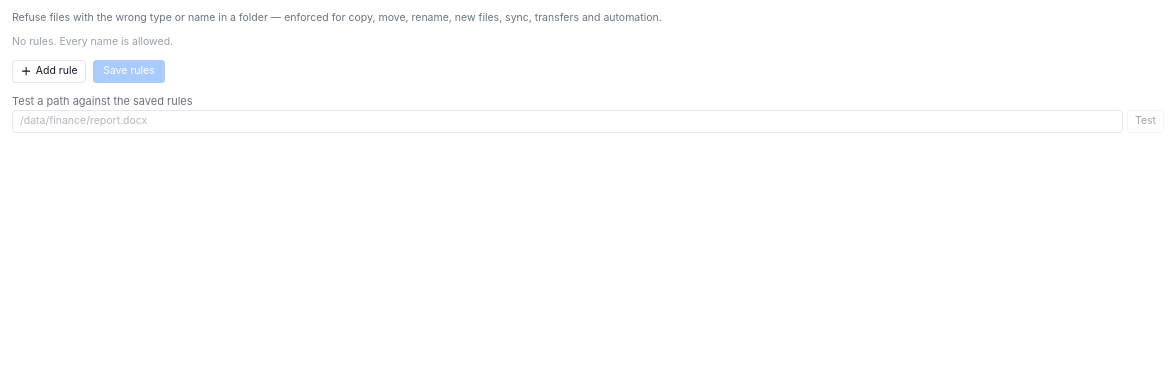
Test case: FilenamePoliciesSection › adds a rule and saves it in the engine's shape
Expected: the text "No rules. Every name is allowed." is shown, [12,35,173,48]
Click the button "Add rule" at (49, 71), box [12,60,86,82]
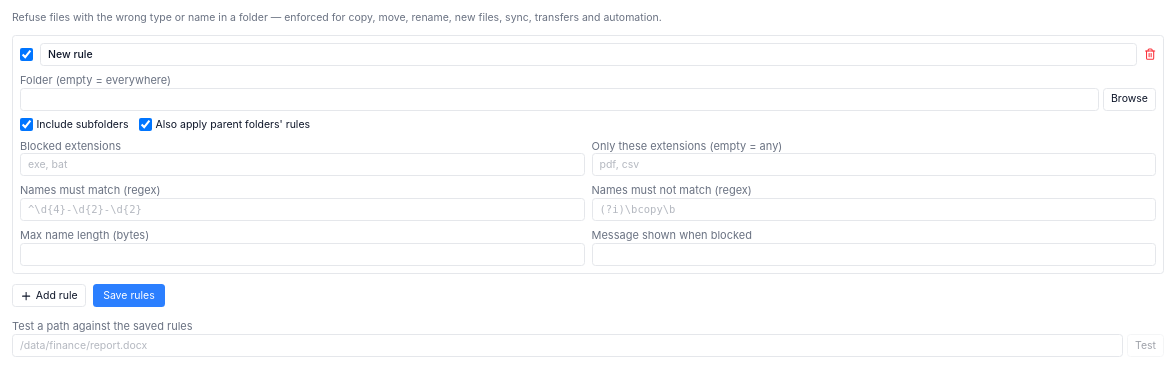
Replace the text in the field named "Rule 1 name" with "No programs" at (588, 54), box [40,43,1137,66]
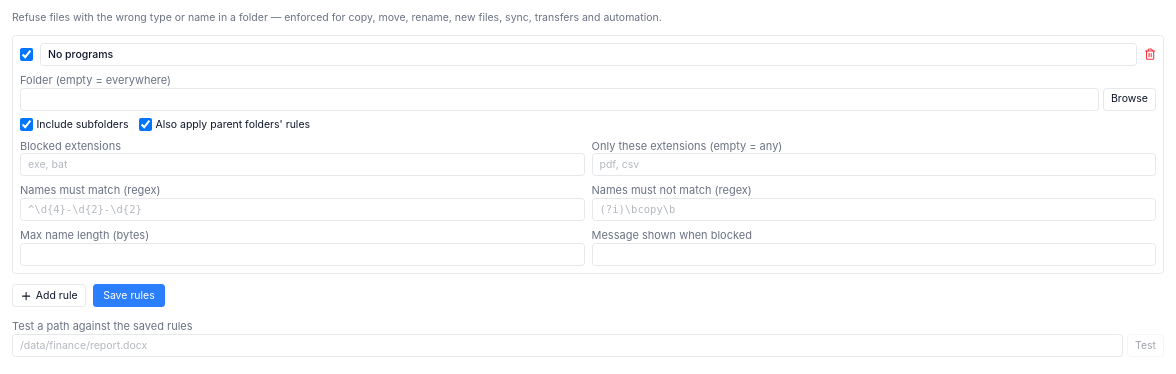
Type ".EXE, bat" into the field labelled "Blocked extensions" at (302, 165), box [20,153,584,176]
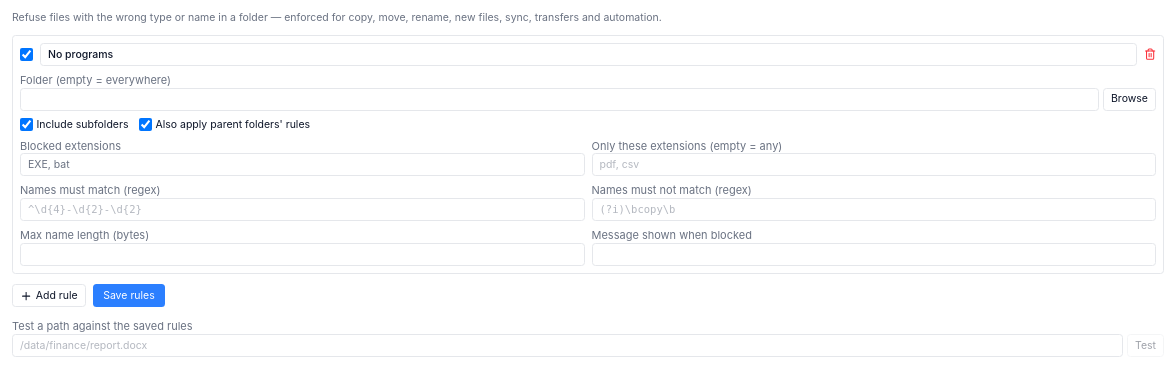
Type "120" into the number field labelled "Max name length (bytes)" at (302, 254), box [20,243,584,266]
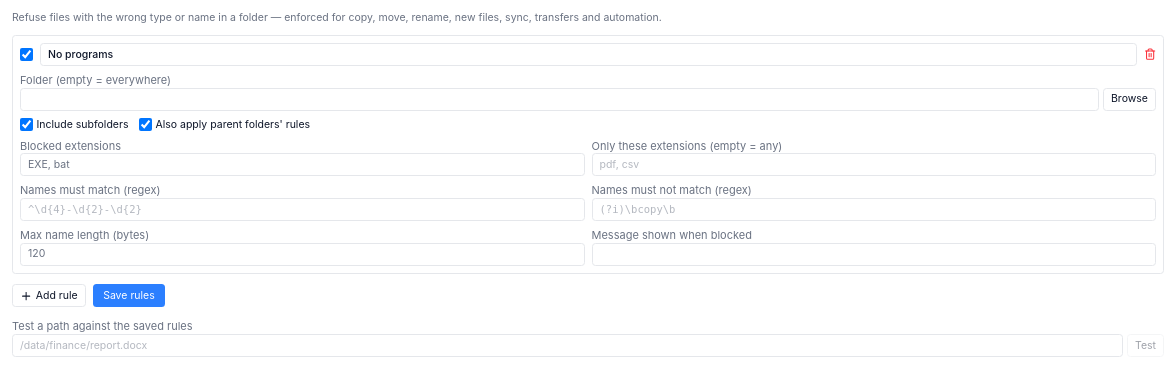
Click the button "Save rules" at (129, 296), box [93,284,165,307]
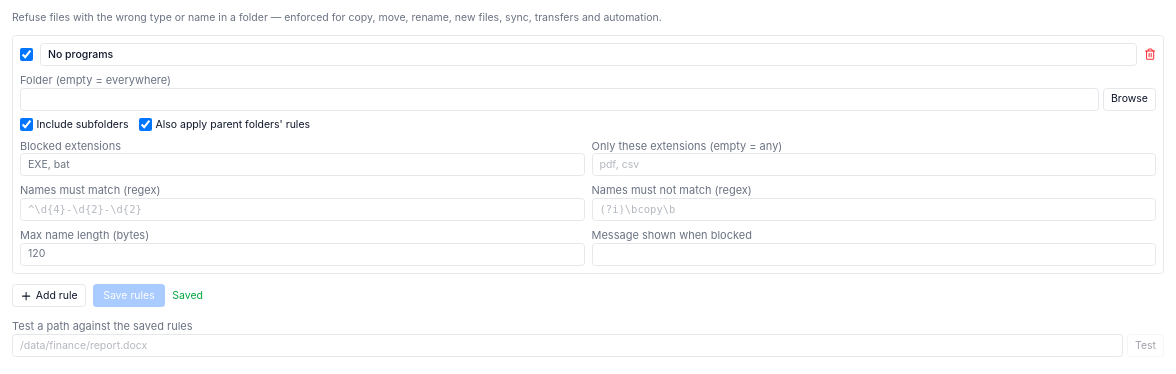
Result: the text "Saved" is shown at [172,289,203,303]
